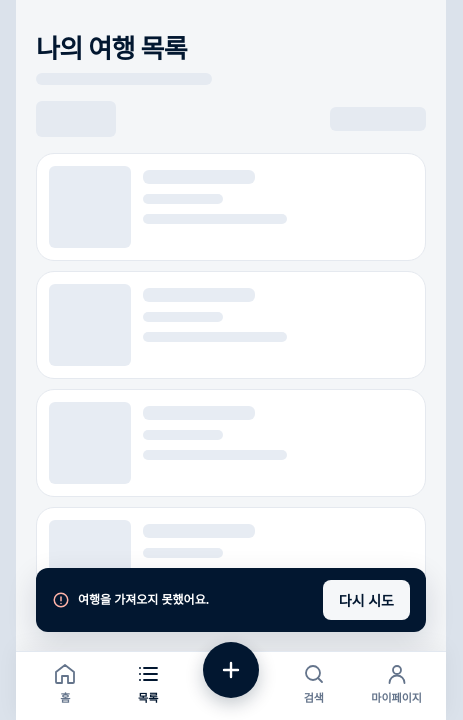
Test: TripListPage › 불러오기에 실패하면 오류를 알리고 다시 시도할 수 있다
The image size is (463, 720).
Expected: the message shows "여행을 가져오지 못했어요.", [78, 591, 209, 608]
Click the button "다시 시도". click: (366, 600)
box: [323, 580, 410, 620]
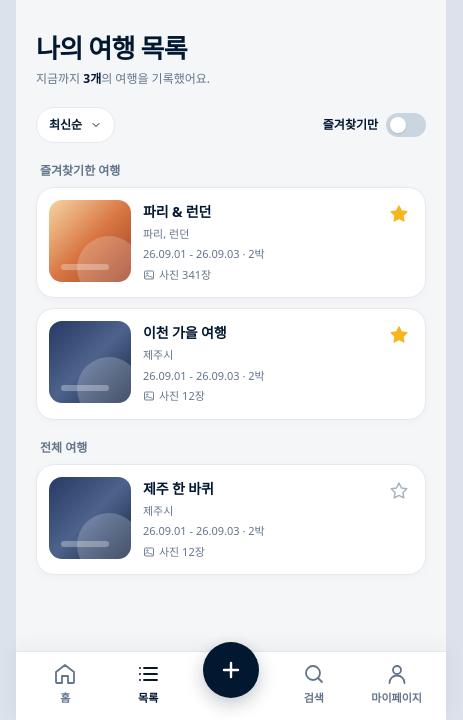
Expected: the heading "파리 & 런던" is shown, [143, 202, 211, 220]
